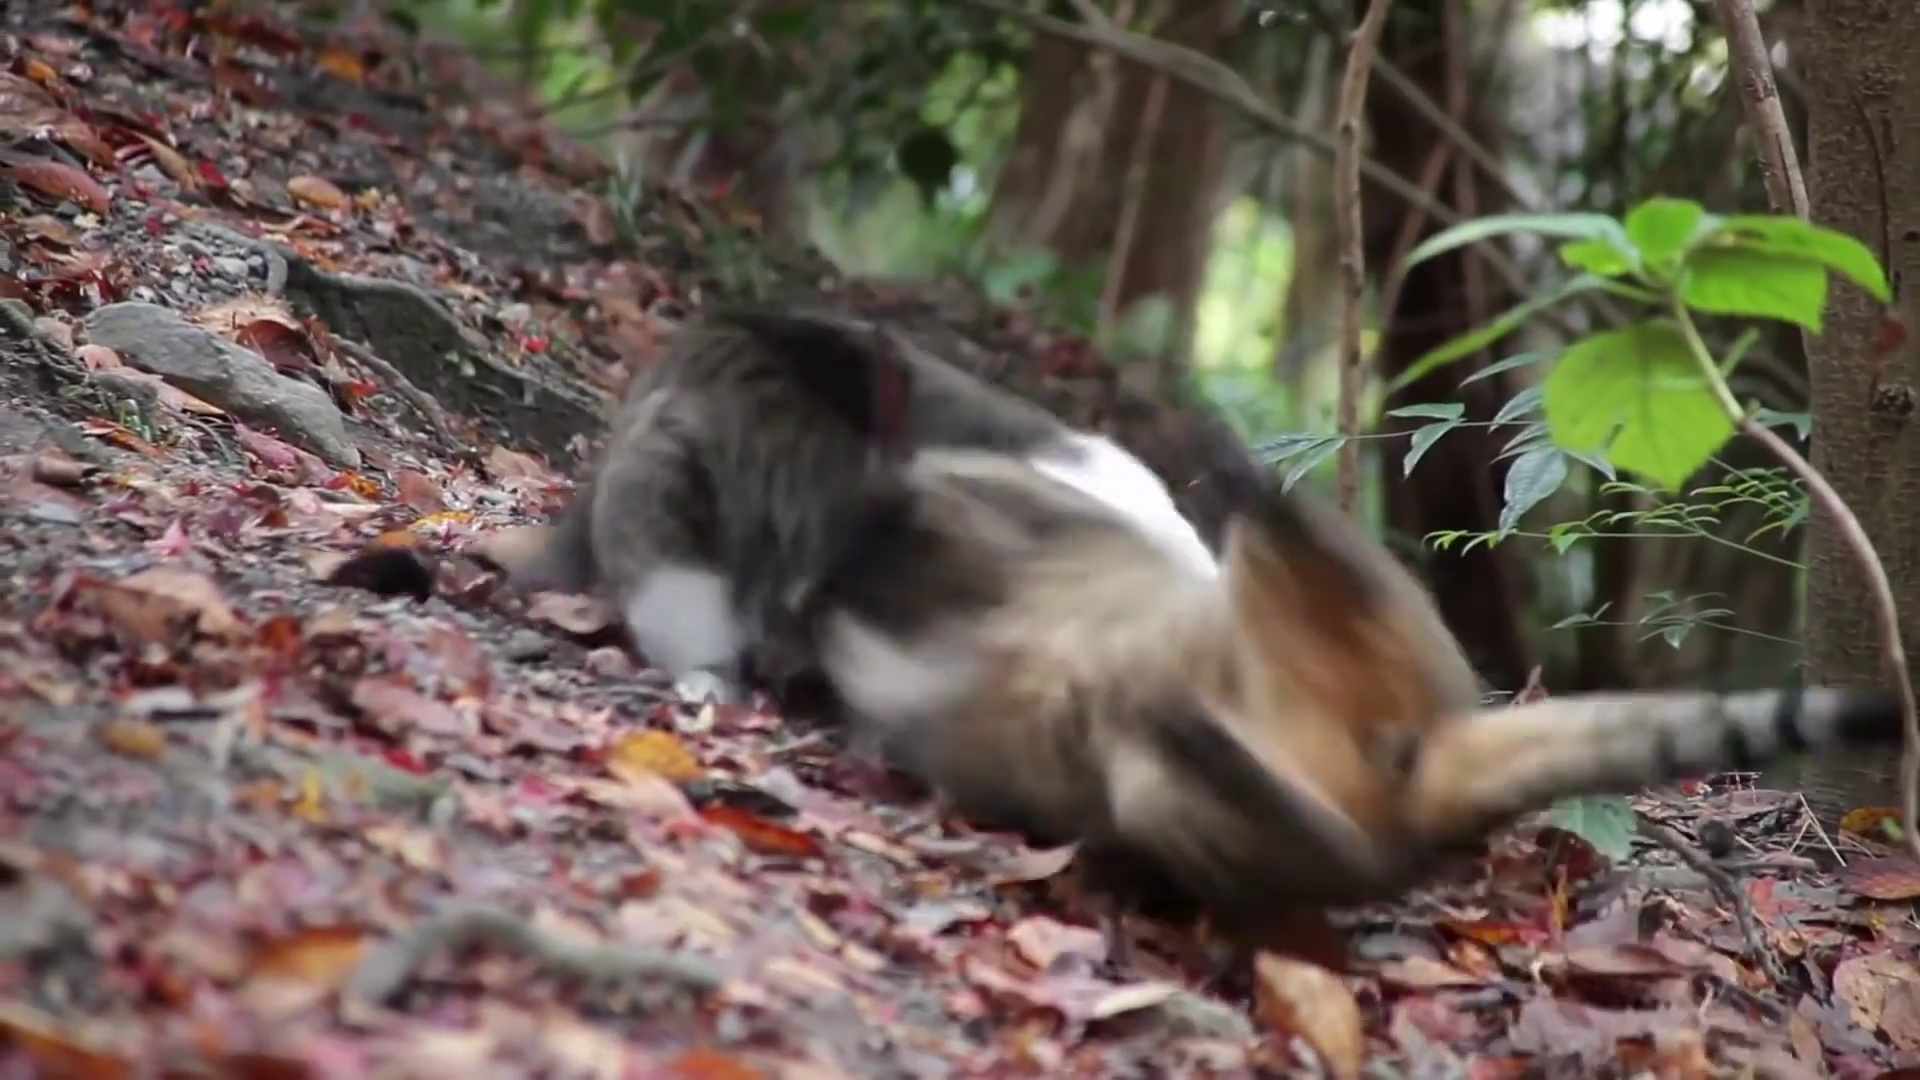black-white: (574, 306, 1207, 716)
pure black: (943, 465, 1896, 895)
